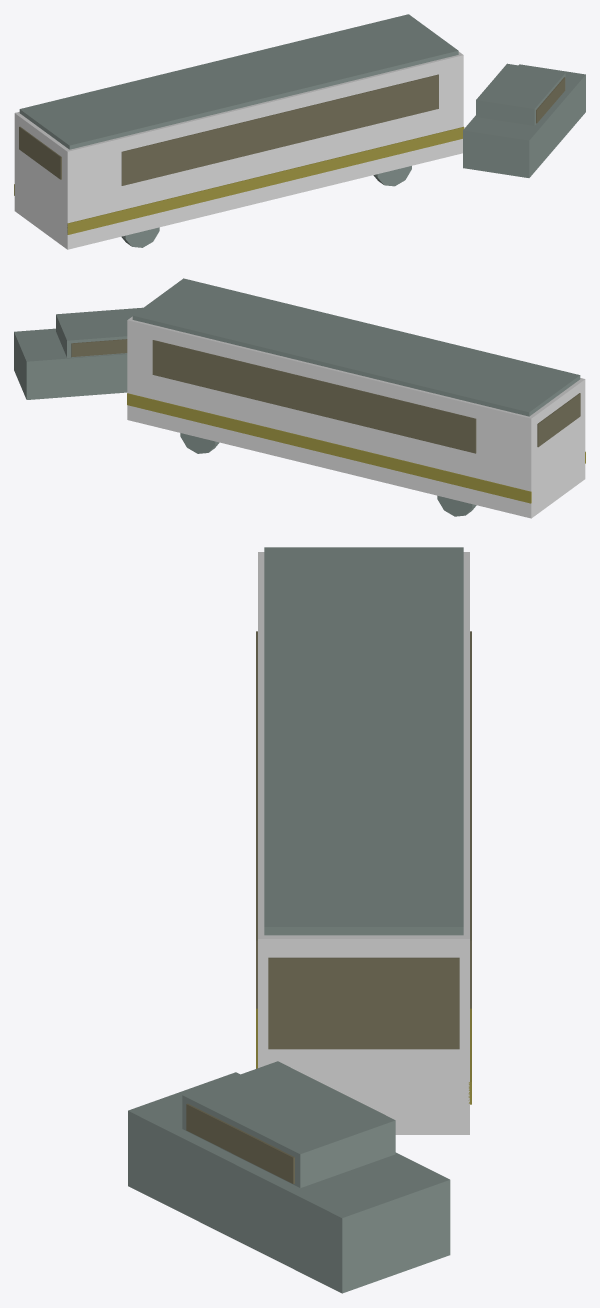
The model's file is SM_AutobusCruzado_v4_Empujado_LOD0.fbx.
3 renders of one model, top to bottom at view 1: azimuth 30°, elevation 25°; view 2: azimuth 150°, elevation 25°; view 3: azimuth 270°, elevation 25°, orthographic. The views are drawn at different scales.
Visible parts, largest first — view 1: SM_aqui_paso_algo_v19_LOD0; view 2: SM_aqui_paso_algo_v19_LOD0; view 3: SM_aqui_paso_algo_v19_LOD0.
Boxes of the visible parts, left/top/right/bottom form: SM_aqui_paso_algo_v19_LOD0: left=14, top=14, right=585, bottom=249; SM_aqui_paso_algo_v19_LOD0: left=14, top=278, right=585, bottom=518; SM_aqui_paso_algo_v19_LOD0: left=128, top=547, right=471, bottom=1293.
Bounding box in the file's own units: 15.01 × 3.16 × 4.14.
